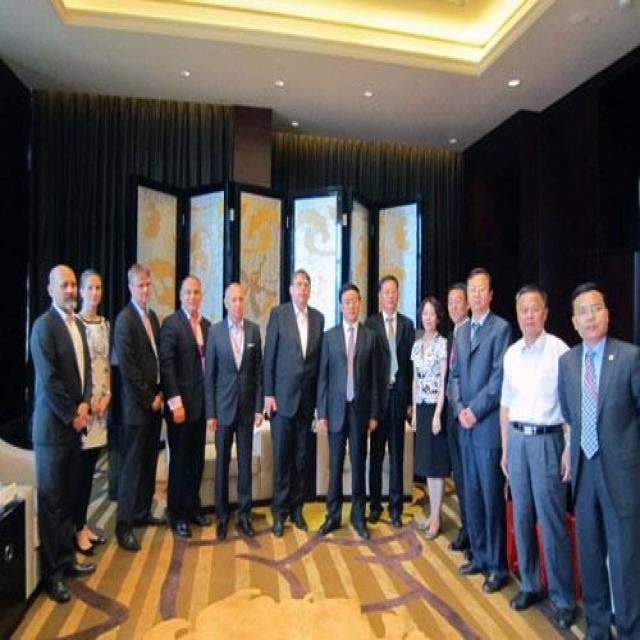non-fight: (485, 285, 579, 630), (18, 256, 110, 608), (261, 268, 328, 538), (160, 269, 219, 538), (399, 295, 454, 548)
